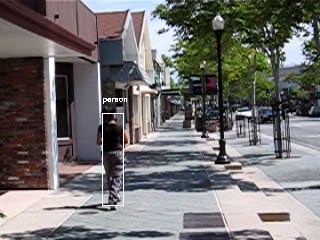person: (99, 109, 132, 214), (98, 109, 131, 214), (100, 109, 133, 214), (99, 108, 132, 213), (99, 110, 132, 215)
target_negative: (139, 153, 259, 206), (254, 92, 301, 174), (120, 48, 136, 227), (287, 122, 301, 210), (165, 231, 197, 240)
